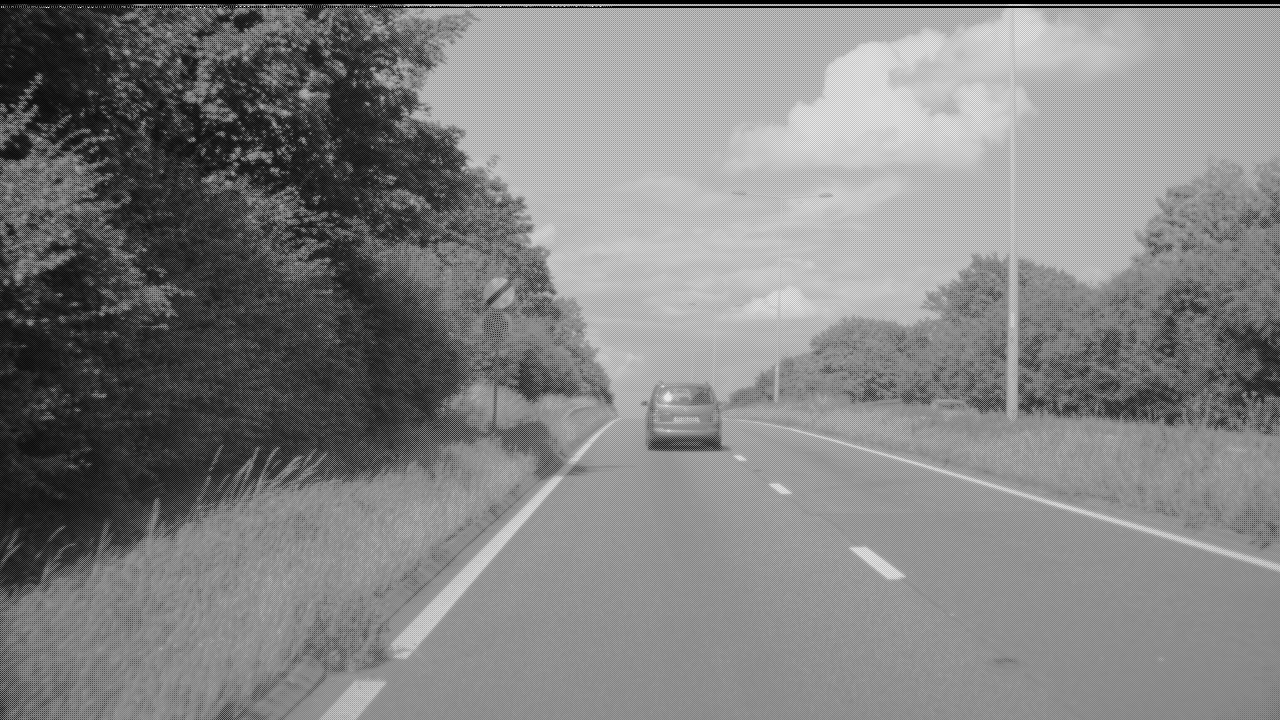pole: (1005, 5, 1018, 411), (772, 185, 779, 394)
